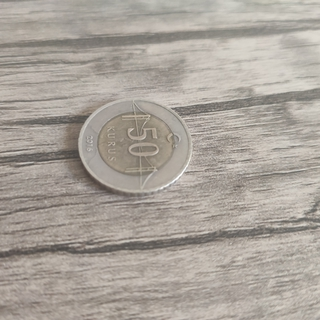50KURUS: (75, 96, 194, 200)
